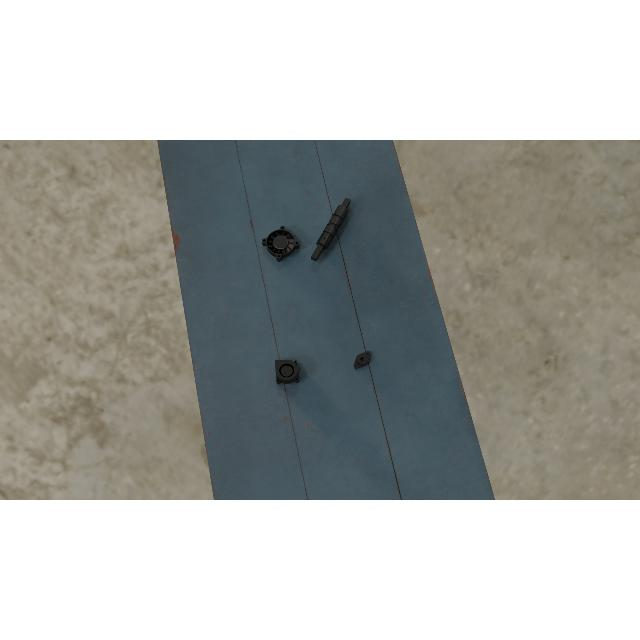Pieza1: (308, 196, 354, 264)
Pieza2: (350, 348, 374, 372)
Pieza3: (275, 358, 299, 386)
Pieza4: (260, 224, 302, 264)
